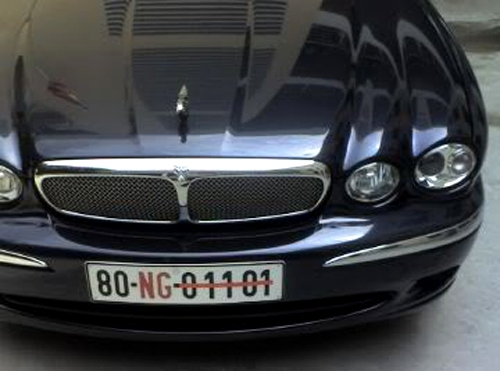plate: (78, 258, 290, 310)
